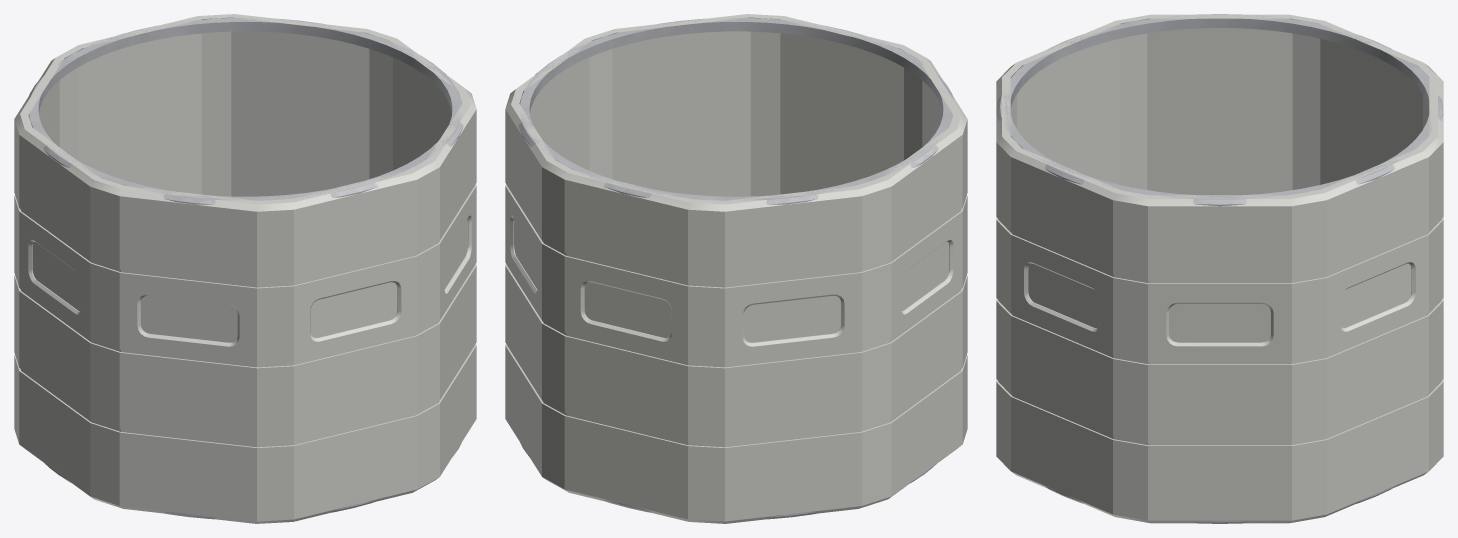
File: ax_tank_11_water_shield_m.glb
3 renders of one model, left to right at view 1: azimuth 30°, elevation 25°; view 2: azimuth 150°, elevation 25°; view 3: azimuth 270°, elevation 25°, orthographic.
Parts seen in each view (by area): view 1: shell, interface_rings; view 2: shell, interface_rings; view 3: shell, interface_rings.
Part boxes in pixels (left/top/right/bottom): shell: left=14, top=14, right=476, bottom=523; interface_rings: left=28, top=17, right=463, bottom=519; shell: left=505, top=14, right=967, bottom=523; interface_rings: left=518, top=17, right=953, bottom=519; shell: left=996, top=14, right=1443, bottom=523; interface_rings: left=996, top=14, right=1443, bottom=523.
Size of the model in its own units: 2.5 by 2 by 2.5.
Materials: 3 (2 with a texture image).
